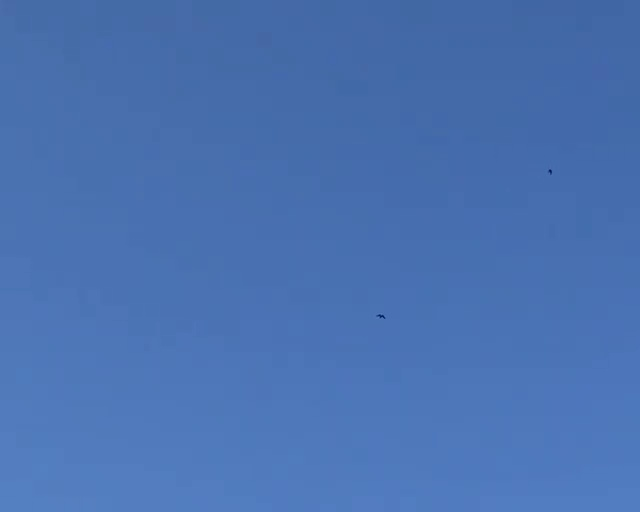BIRD: (376, 313, 386, 318)
